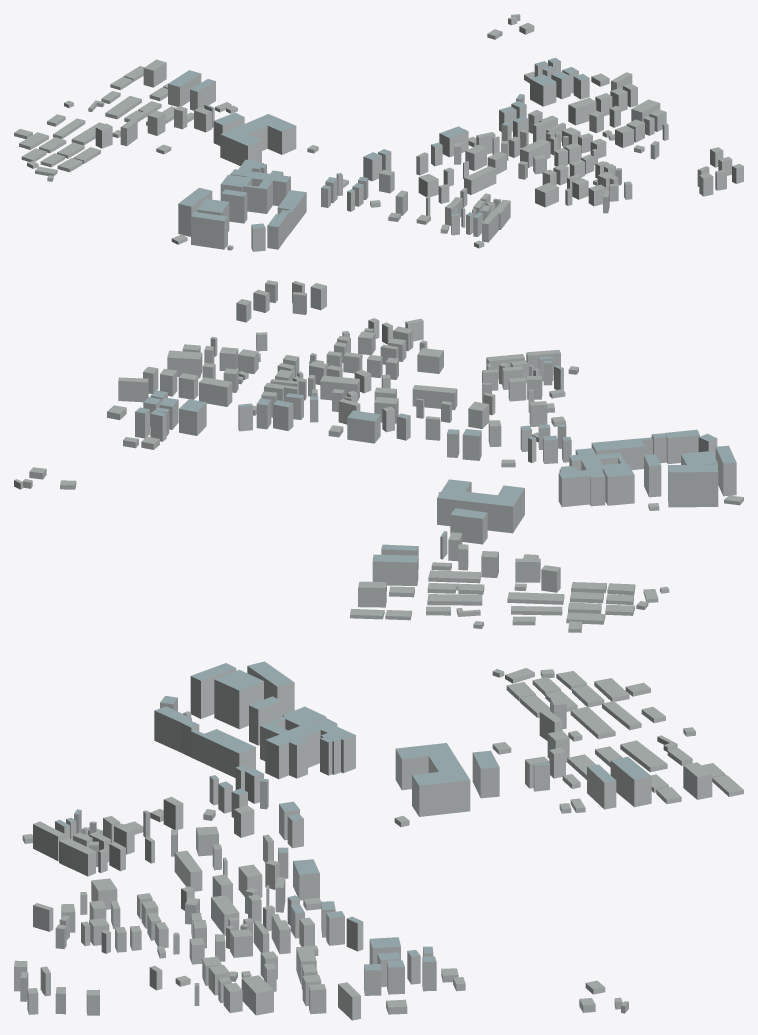
File: far.glb
The picture shows the model from 3 angles, top to bottom: view 1: azimuth 30°, elevation 25°; view 2: azimuth 150°, elevation 25°; view 3: azimuth 270°, elevation 25°; orthographic projection. The views are drawn at different scales.
Size of the model in its own units: 535 by 29.1 by 473.
